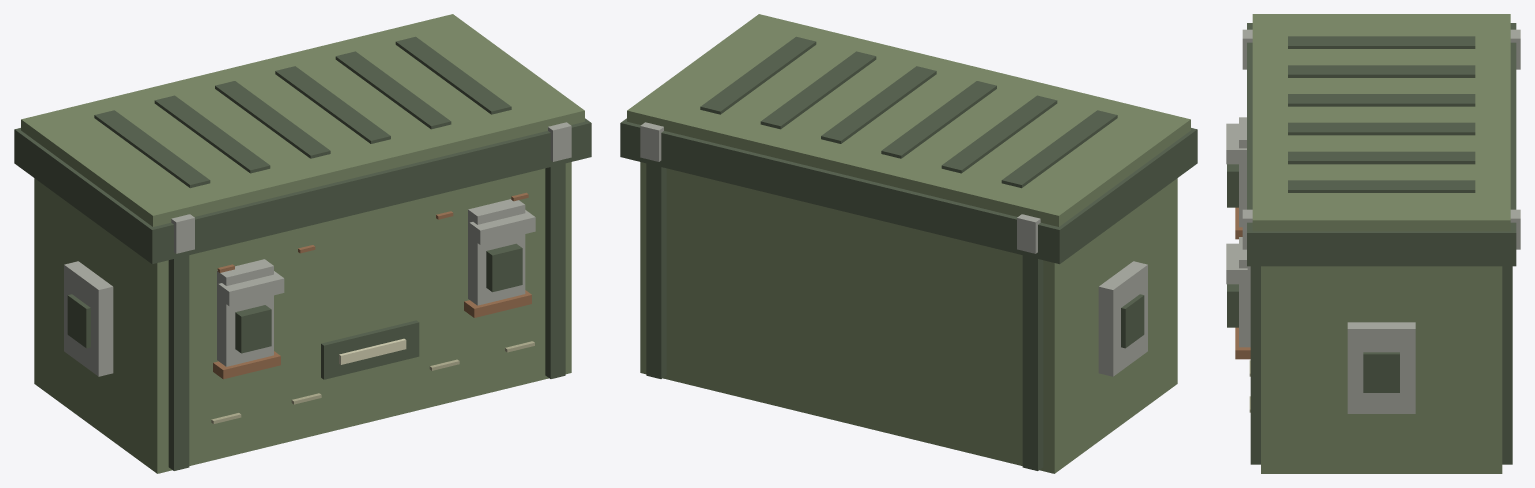
File: crate.gltf
The picture shows the model from 3 angles, left to right: view 1: azimuth 30°, elevation 25°; view 2: azimuth 150°, elevation 25°; view 3: azimuth 270°, elevation 25°; orthographic projection. The views are drawn at different scales.
Bounding box in the file's own units: 1.8 × 1.02 × 1.04.
